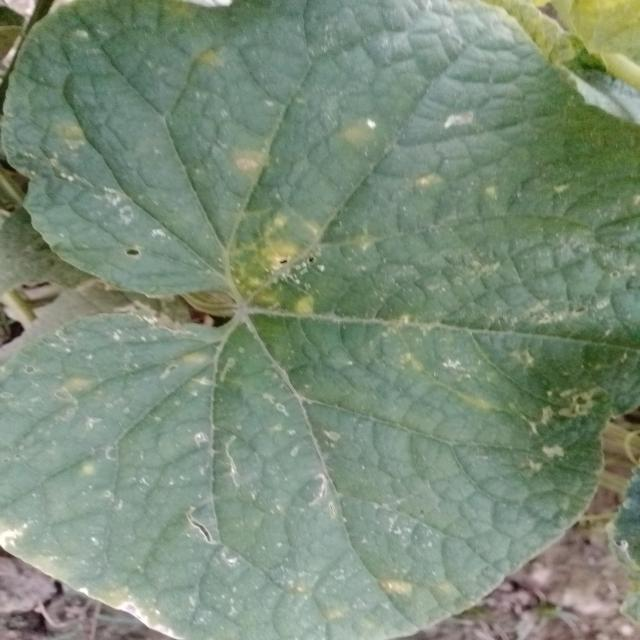cucumber_downy: (49, 9, 630, 612)
